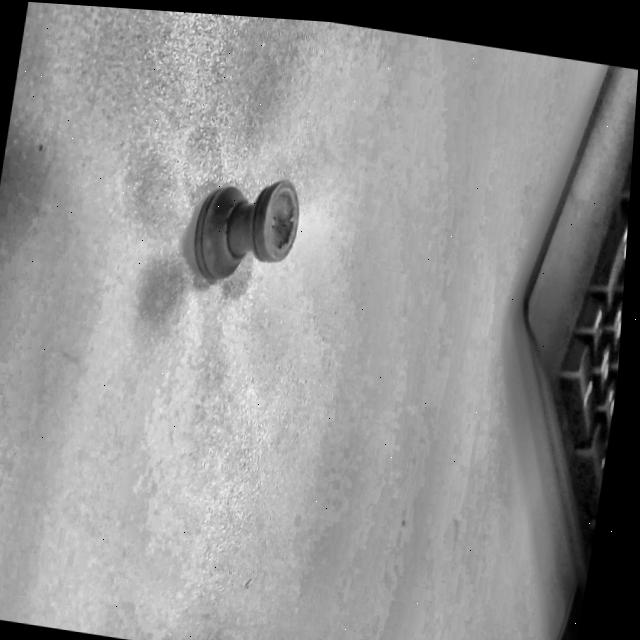white-rook: (192, 180, 297, 280)
